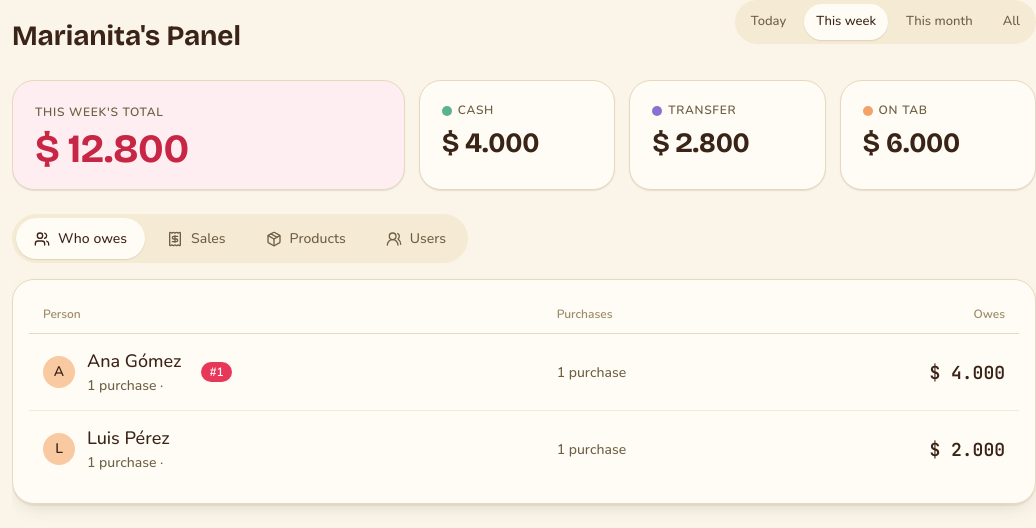
Test: MarianitaPanel — totales › el filtro "All" incluye compras antiguas
Click the button "All" at (1011, 22), box [991,4,1032,40]
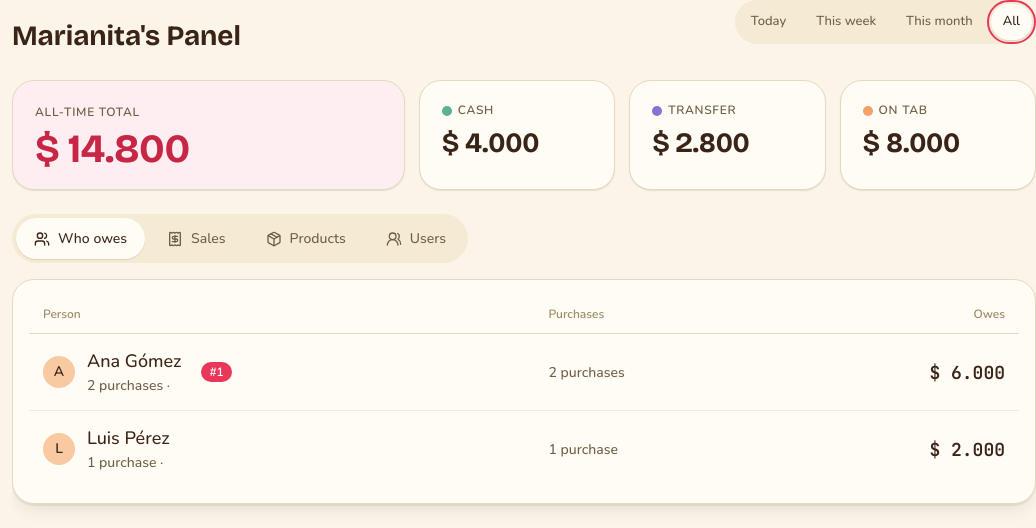
Expected: the text "$ 14.800" is shown, [35,125,190,173]
